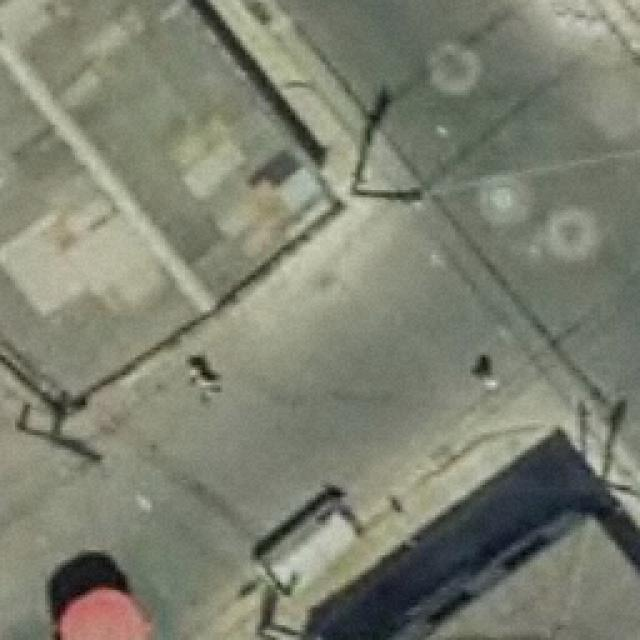vendedor_ambulante: (46, 578, 157, 640)
